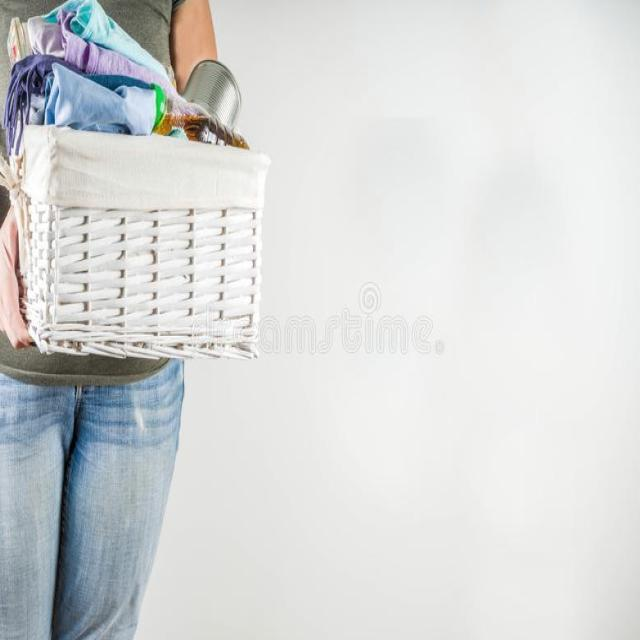clothes: (0, 21, 159, 136)
